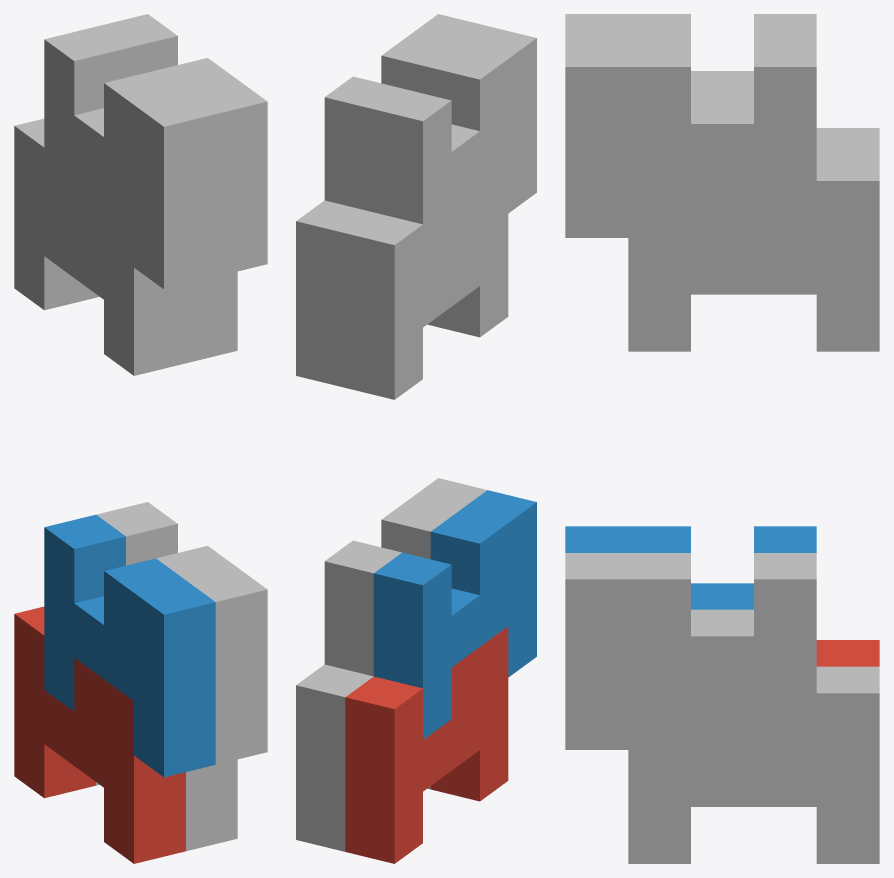
File: tiling.obj
3 renders of one model, left to right at view 1: azimuth 30°, elevation 25°; view 2: azimuth 150°, elevation 25°; view 3: azimuth 270°, elevation 25°, orthographic. The views are drawn at different scales.
Visible parts, largest first — view 1: copy_1_domain_4, copy_1_domain_2, copy_1_domain_3, copy_1_domain_1, copy_1_domain_6, copy_1_domain_8, copy_1_domain_5, copy_1_domain_7; view 2: copy_1_domain_2, copy_1_domain_4, copy_1_domain_1, copy_1_domain_3, copy_1_domain_6, copy_1_domain_8, copy_1_domain_5, copy_1_domain_7; view 3: copy_1_domain_8, copy_1_domain_6, copy_1_domain_7, copy_1_domain_5, copy_1_domain_2, copy_1_domain_4, copy_1_domain_1, copy_1_domain_3.
Boxes of the visible parts, bbox=[...] form: copy_1_domain_4: bbox=[44, 26, 215, 289]; copy_1_domain_2: bbox=[44, 514, 215, 777]; copy_1_domain_3: bbox=[14, 118, 185, 375]; copy_1_domain_1: bbox=[14, 606, 185, 863]; copy_1_domain_6: bbox=[96, 502, 267, 764]; copy_1_domain_8: bbox=[96, 14, 267, 276]; copy_1_domain_5: bbox=[96, 759, 237, 851]; copy_1_domain_7: bbox=[96, 271, 237, 363]; copy_1_domain_2: bbox=[373, 490, 536, 739]; copy_1_domain_4: bbox=[373, 26, 536, 275]; copy_1_domain_1: bbox=[345, 626, 508, 863]; copy_1_domain_3: bbox=[345, 162, 508, 399]; copy_1_domain_6: bbox=[324, 478, 486, 676]; copy_1_domain_8: bbox=[324, 14, 486, 212]; copy_1_domain_5: bbox=[296, 664, 430, 851]; copy_1_domain_7: bbox=[296, 200, 430, 387]; copy_1_domain_8: bbox=[565, 40, 816, 237]; copy_1_domain_6: bbox=[565, 553, 816, 749]; copy_1_domain_7: bbox=[628, 154, 879, 351]; copy_1_domain_5: bbox=[628, 666, 879, 863]; copy_1_domain_2: bbox=[565, 526, 816, 609]; copy_1_domain_4: bbox=[565, 14, 816, 97]; copy_1_domain_1: bbox=[816, 640, 879, 666]; copy_1_domain_3: bbox=[816, 128, 879, 154].
Size of the model in its own units: 2 by 14 by 5.
